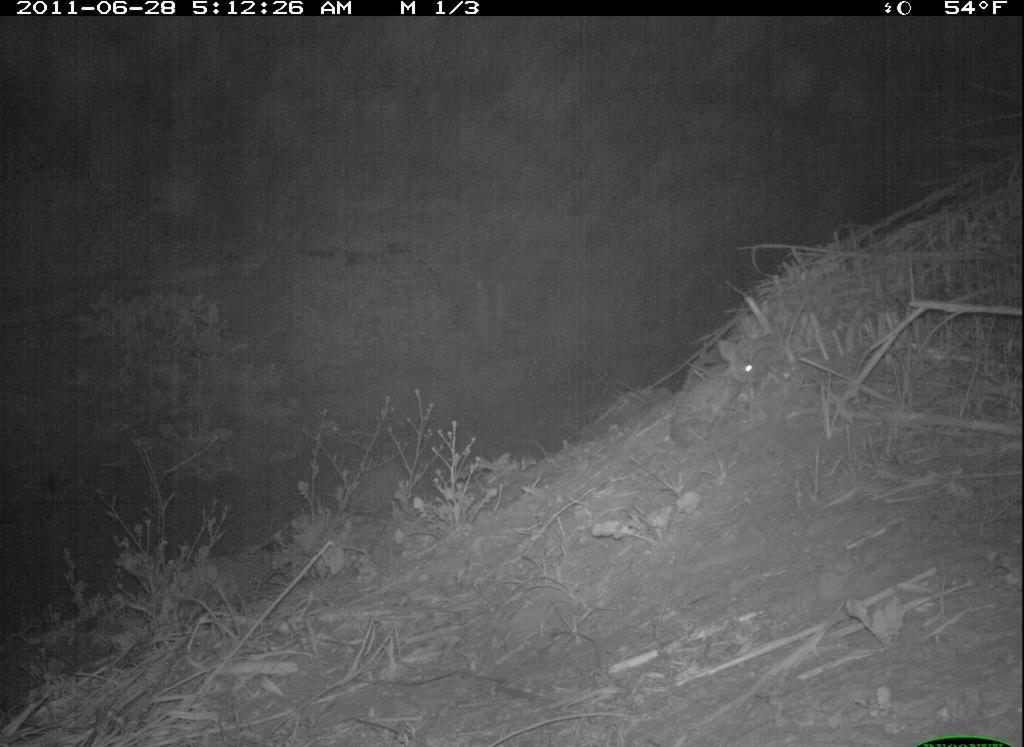rabbit: (653, 329, 803, 470)
